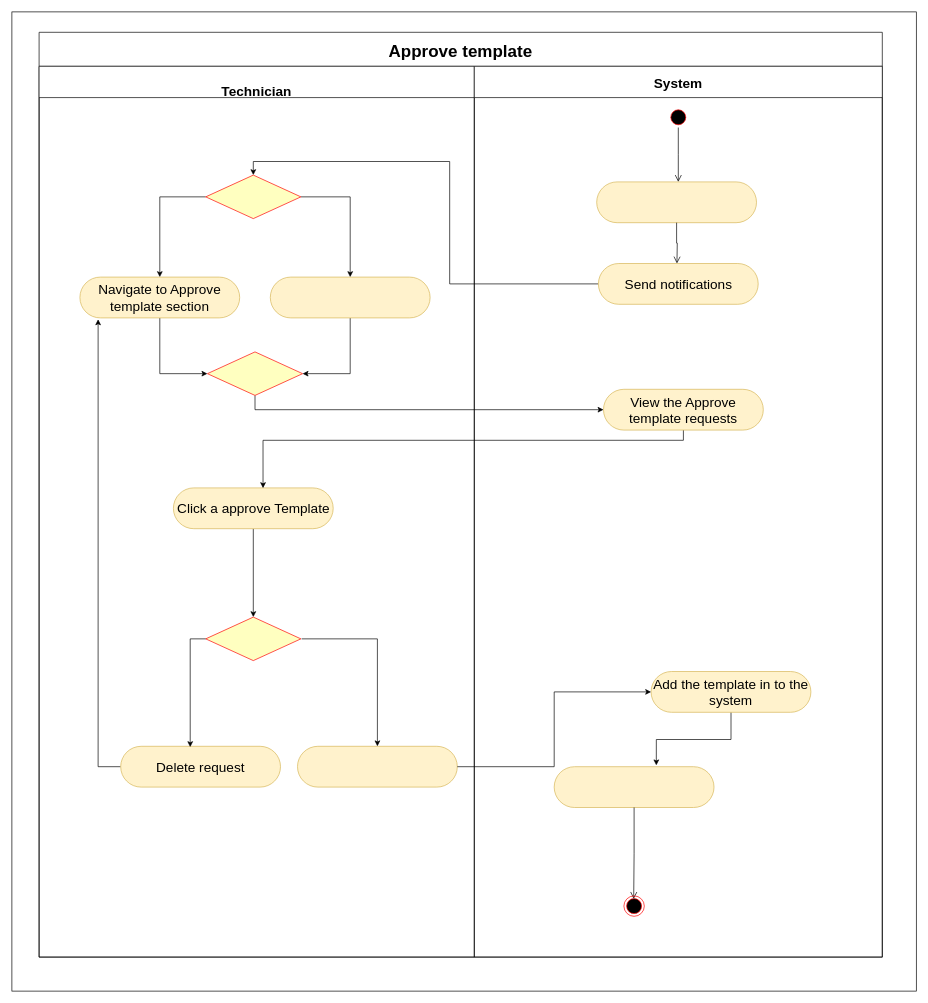
The diagram is 928 pixels wide and 1003 high, and some of its shapes have lost their labels. The box of each missing label's shape, as (x1, y1, x2, y2) in pixels:
Accept Template: (297, 746, 457, 787)
Click the Notification: (270, 276, 430, 318)
Send a notification to the corresponding user: (554, 766, 714, 808)
Update approve template section: (596, 181, 756, 223)
